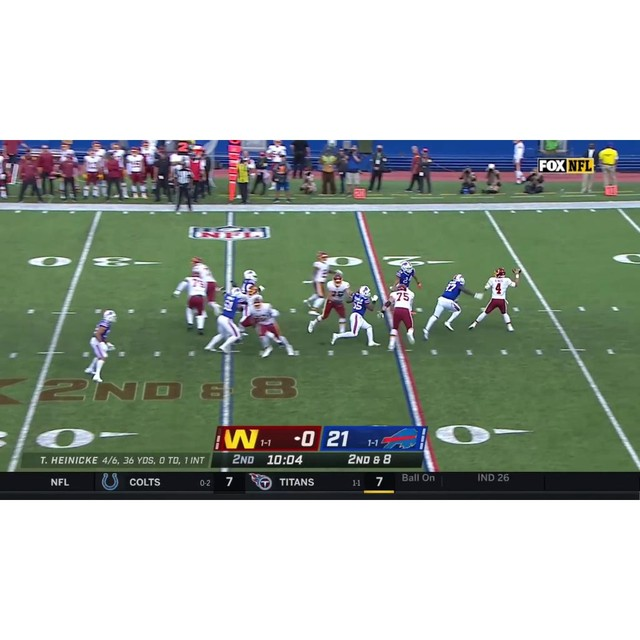american-football-player: (423, 273, 471, 339), (470, 267, 517, 333), (332, 285, 380, 348), (250, 298, 297, 359), (307, 272, 353, 333), (204, 288, 244, 354), (382, 281, 418, 351), (83, 311, 118, 381), (172, 268, 209, 334), (302, 251, 333, 310), (190, 255, 221, 313), (239, 269, 264, 296)
referee: (172, 159, 196, 215)
